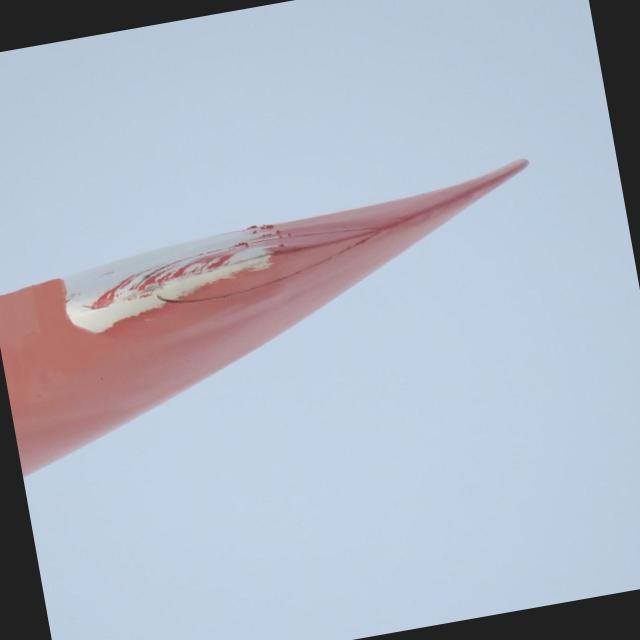surface_peeling: (29, 208, 298, 355)
